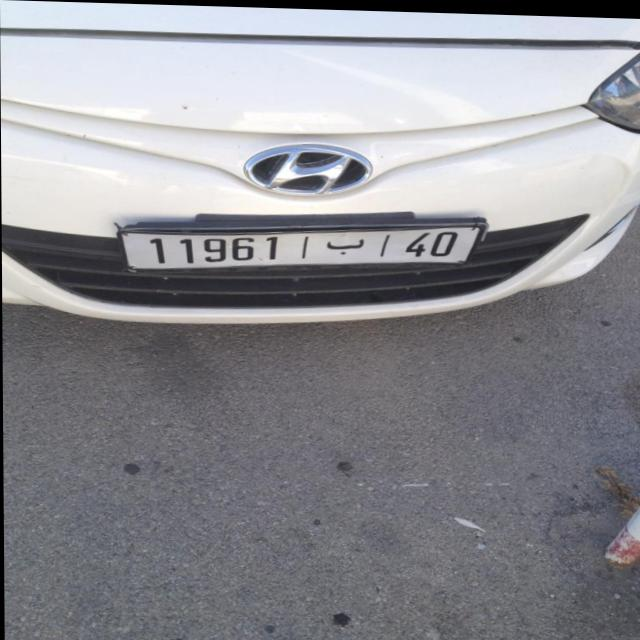License-Plate: (120, 223, 481, 269)
